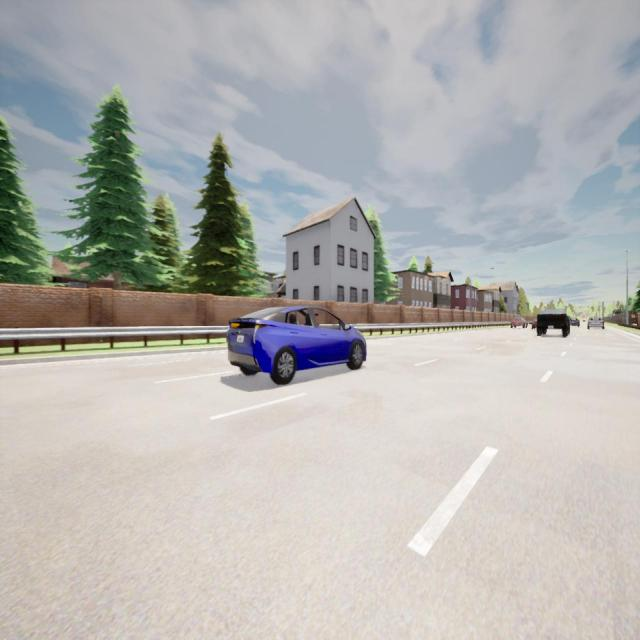Vehicle: (227, 306, 367, 385), (537, 309, 570, 337), (587, 315, 604, 329), (511, 317, 526, 329), (570, 316, 580, 328), (531, 320, 537, 329), (525, 320, 528, 328)
